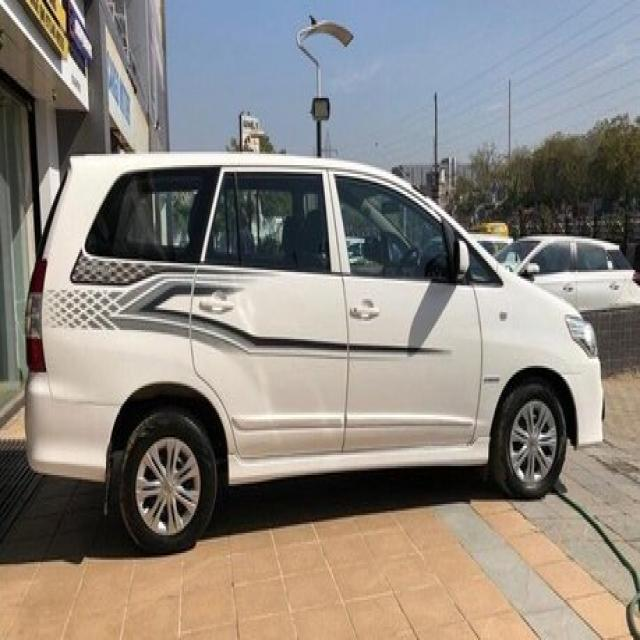light_vehicle: (21, 151, 606, 554)
